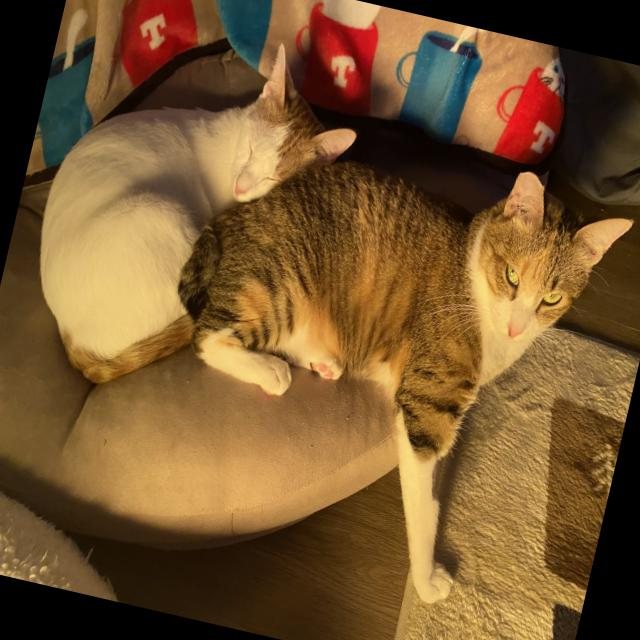cat1: (8, 19, 370, 428)
cat2: (122, 103, 640, 628)
